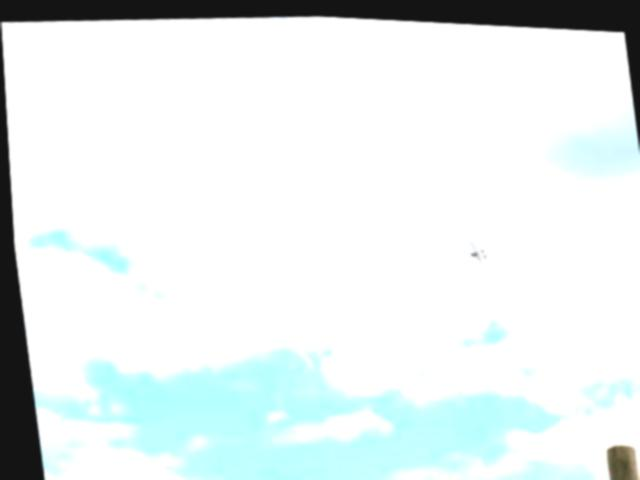uav: (463, 229, 488, 264)
